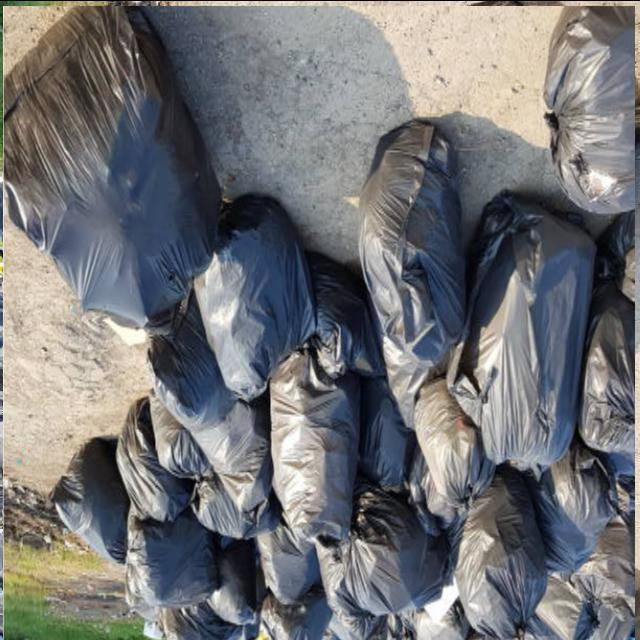Trashbag: (4, 10, 208, 304), (467, 197, 584, 465), (366, 120, 465, 372), (536, 1, 640, 205), (204, 209, 311, 361), (272, 366, 358, 529), (140, 323, 252, 422), (462, 472, 532, 624), (347, 494, 441, 599), (585, 285, 640, 455), (112, 518, 208, 600), (409, 381, 484, 485), (41, 462, 121, 546), (313, 255, 372, 367), (360, 385, 416, 493), (558, 562, 638, 635), (118, 412, 174, 516), (536, 460, 599, 551), (212, 532, 262, 629), (216, 417, 272, 500), (262, 522, 306, 611), (180, 476, 227, 516)
